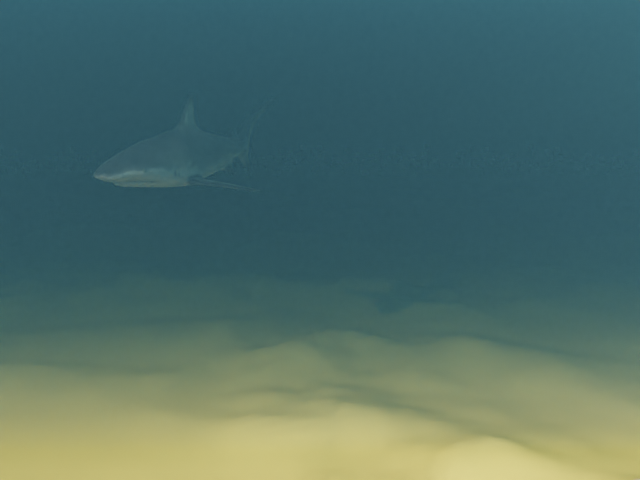Carribean Shark.001: (93, 95, 273, 191)
